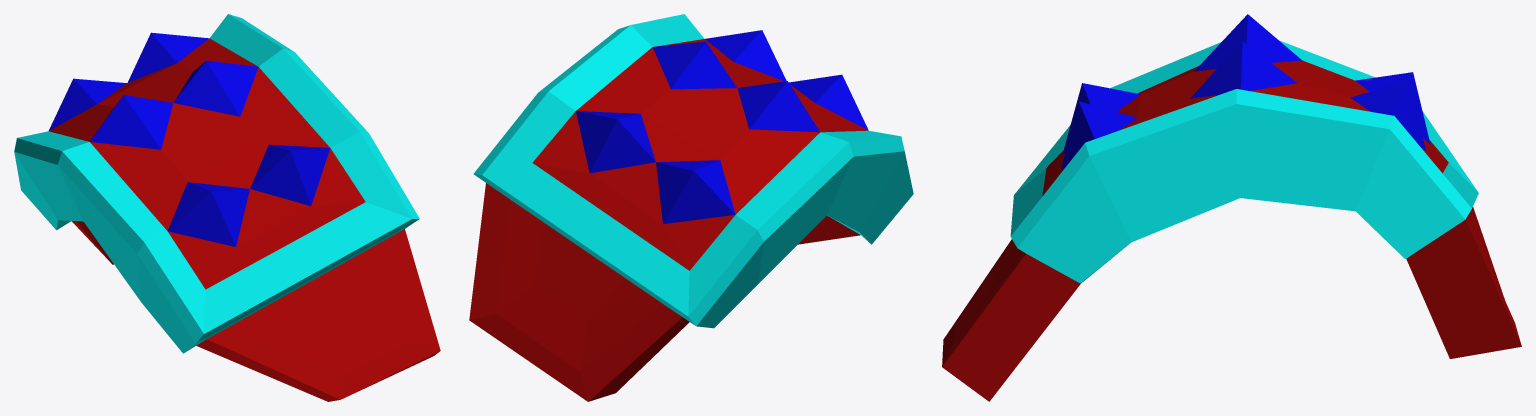
The model's file is Chr_ShoulderAttachRight_Static_03.fbx.
3 views of the same model, side by side, from view 1: azimuth 30°, elevation 25°; view 2: azimuth 150°, elevation 25°; view 3: azimuth 270°, elevation 25° (orthographic). The views are drawn at different scales.
Visible parts, largest first — view 1: Chr_ShoulderAttachRight_03; view 2: Chr_ShoulderAttachRight_03; view 3: Chr_ShoulderAttachRight_03.
Part boxes in pixels (<box>): Chr_ShoulderAttachRight_03: <box>14,14,440,401</box>; Chr_ShoulderAttachRight_03: <box>469,14,913,401</box>; Chr_ShoulderAttachRight_03: <box>942,14,1521,401</box>.
Bounding box in the file's own units: 21.94 × 20.29 × 32.94.
